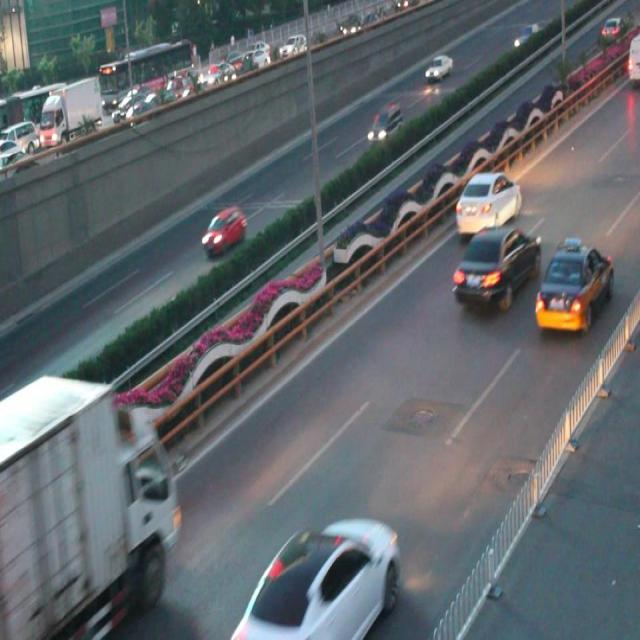bus: (1, 372, 181, 640)
car: (238, 513, 400, 640), (450, 228, 542, 309), (537, 234, 612, 333), (454, 168, 520, 234), (202, 203, 246, 254), (365, 103, 403, 145), (422, 53, 453, 84)
